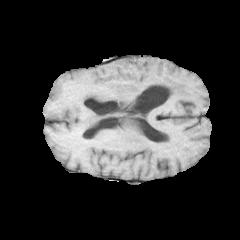glioma: (50, 70, 191, 126)
